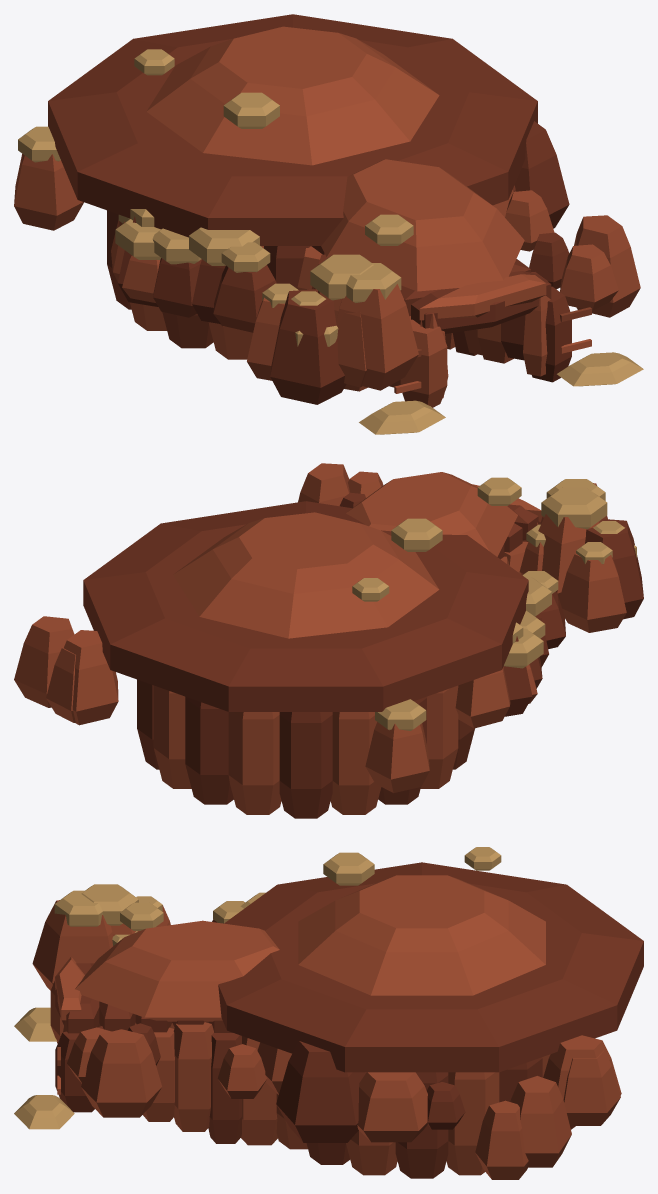
File: cave_canyon.glb
3 renders of one model, top to bottom at view 1: azimuth 30°, elevation 25°; view 2: azimuth 150°, elevation 25°; view 3: azimuth 270°, elevation 25°, orthographic. The views are drawn at different scales.
Parts seen in each view (by area): view 1: cave_canyon; view 2: cave_canyon; view 3: cave_canyon.
Boxes of the visible parts, box(x1,y1,x2,y2) form: cave_canyon: box(14, 14, 643, 434); cave_canyon: box(14, 463, 643, 818); cave_canyon: box(14, 847, 643, 1179).
Size of the model in its own units: 40.33 by 19.83 by 51.72.
